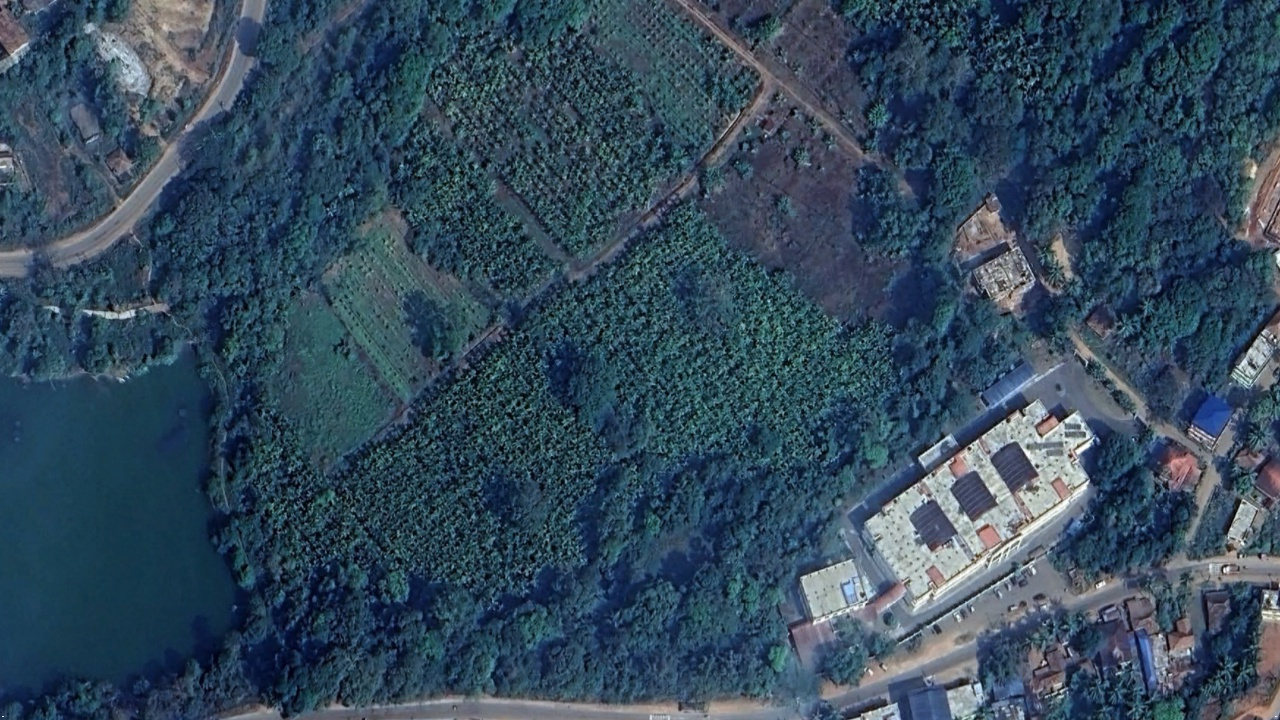arecanut: (439, 46, 774, 449), (267, 465, 472, 560)
